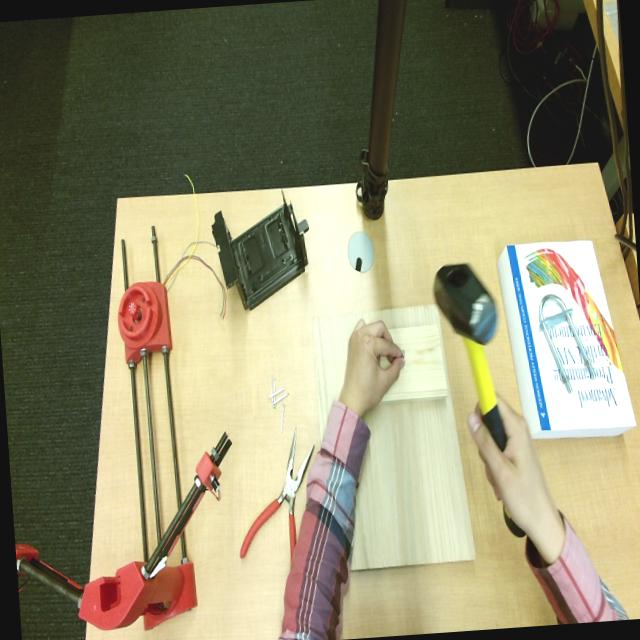hammer: (434, 264, 506, 450)
pliers: (240, 431, 313, 557)
